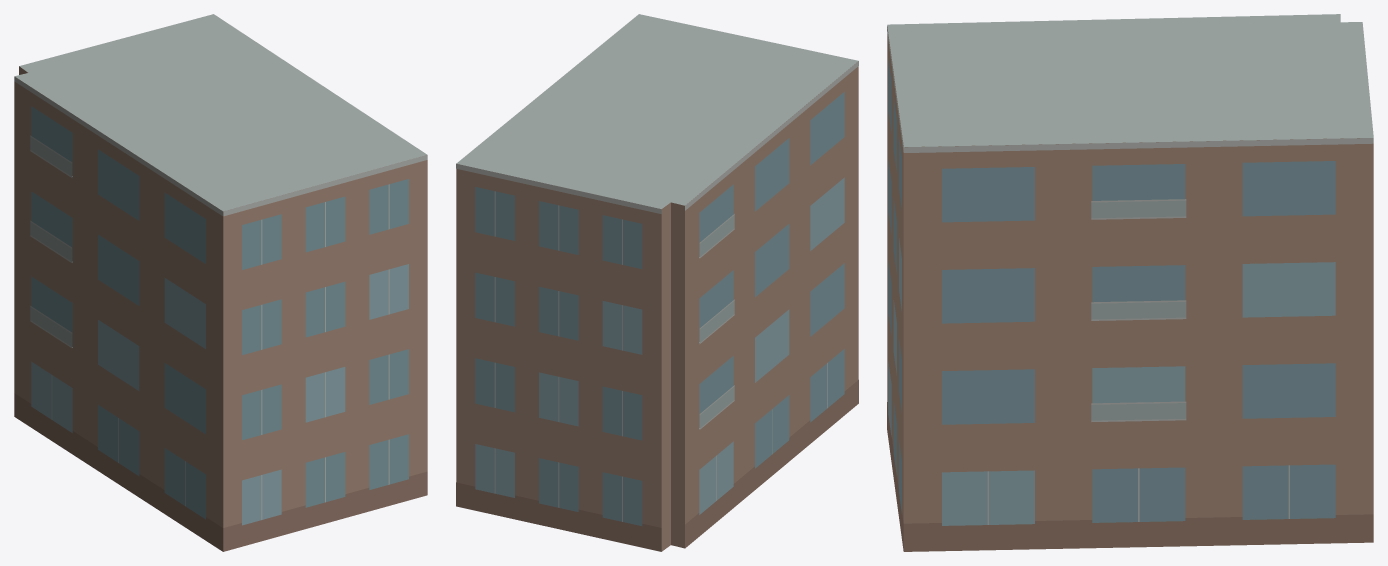
The model's file is survey-upis-32781232.glb.
3 renders of one model, left to right at view 1: azimuth 30°, elevation 25°; view 2: azimuth 150°, elevation 25°; view 3: azimuth 270°, elevation 25°, orthographic. The views are drawn at different scales.
Parts seen in each view (by area): view 1: survey-upis-32781232.tmp; view 2: survey-upis-32781232.tmp; view 3: survey-upis-32781232.tmp.
Boxes of the visible parts, x1=… form: survey-upis-32781232.tmp: x1=14, y1=14, x2=427, y2=551; survey-upis-32781232.tmp: x1=456, y1=14, x2=858, y2=551; survey-upis-32781232.tmp: x1=887, y1=14, x2=1373, y2=551.
Bounding box in the file's own units: 11.65 × 16.5 × 17.99.
